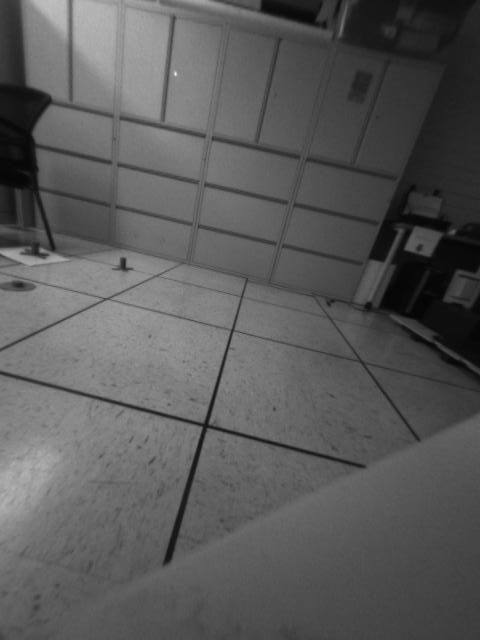X: (21, 240, 50, 261), (110, 256, 135, 274)
